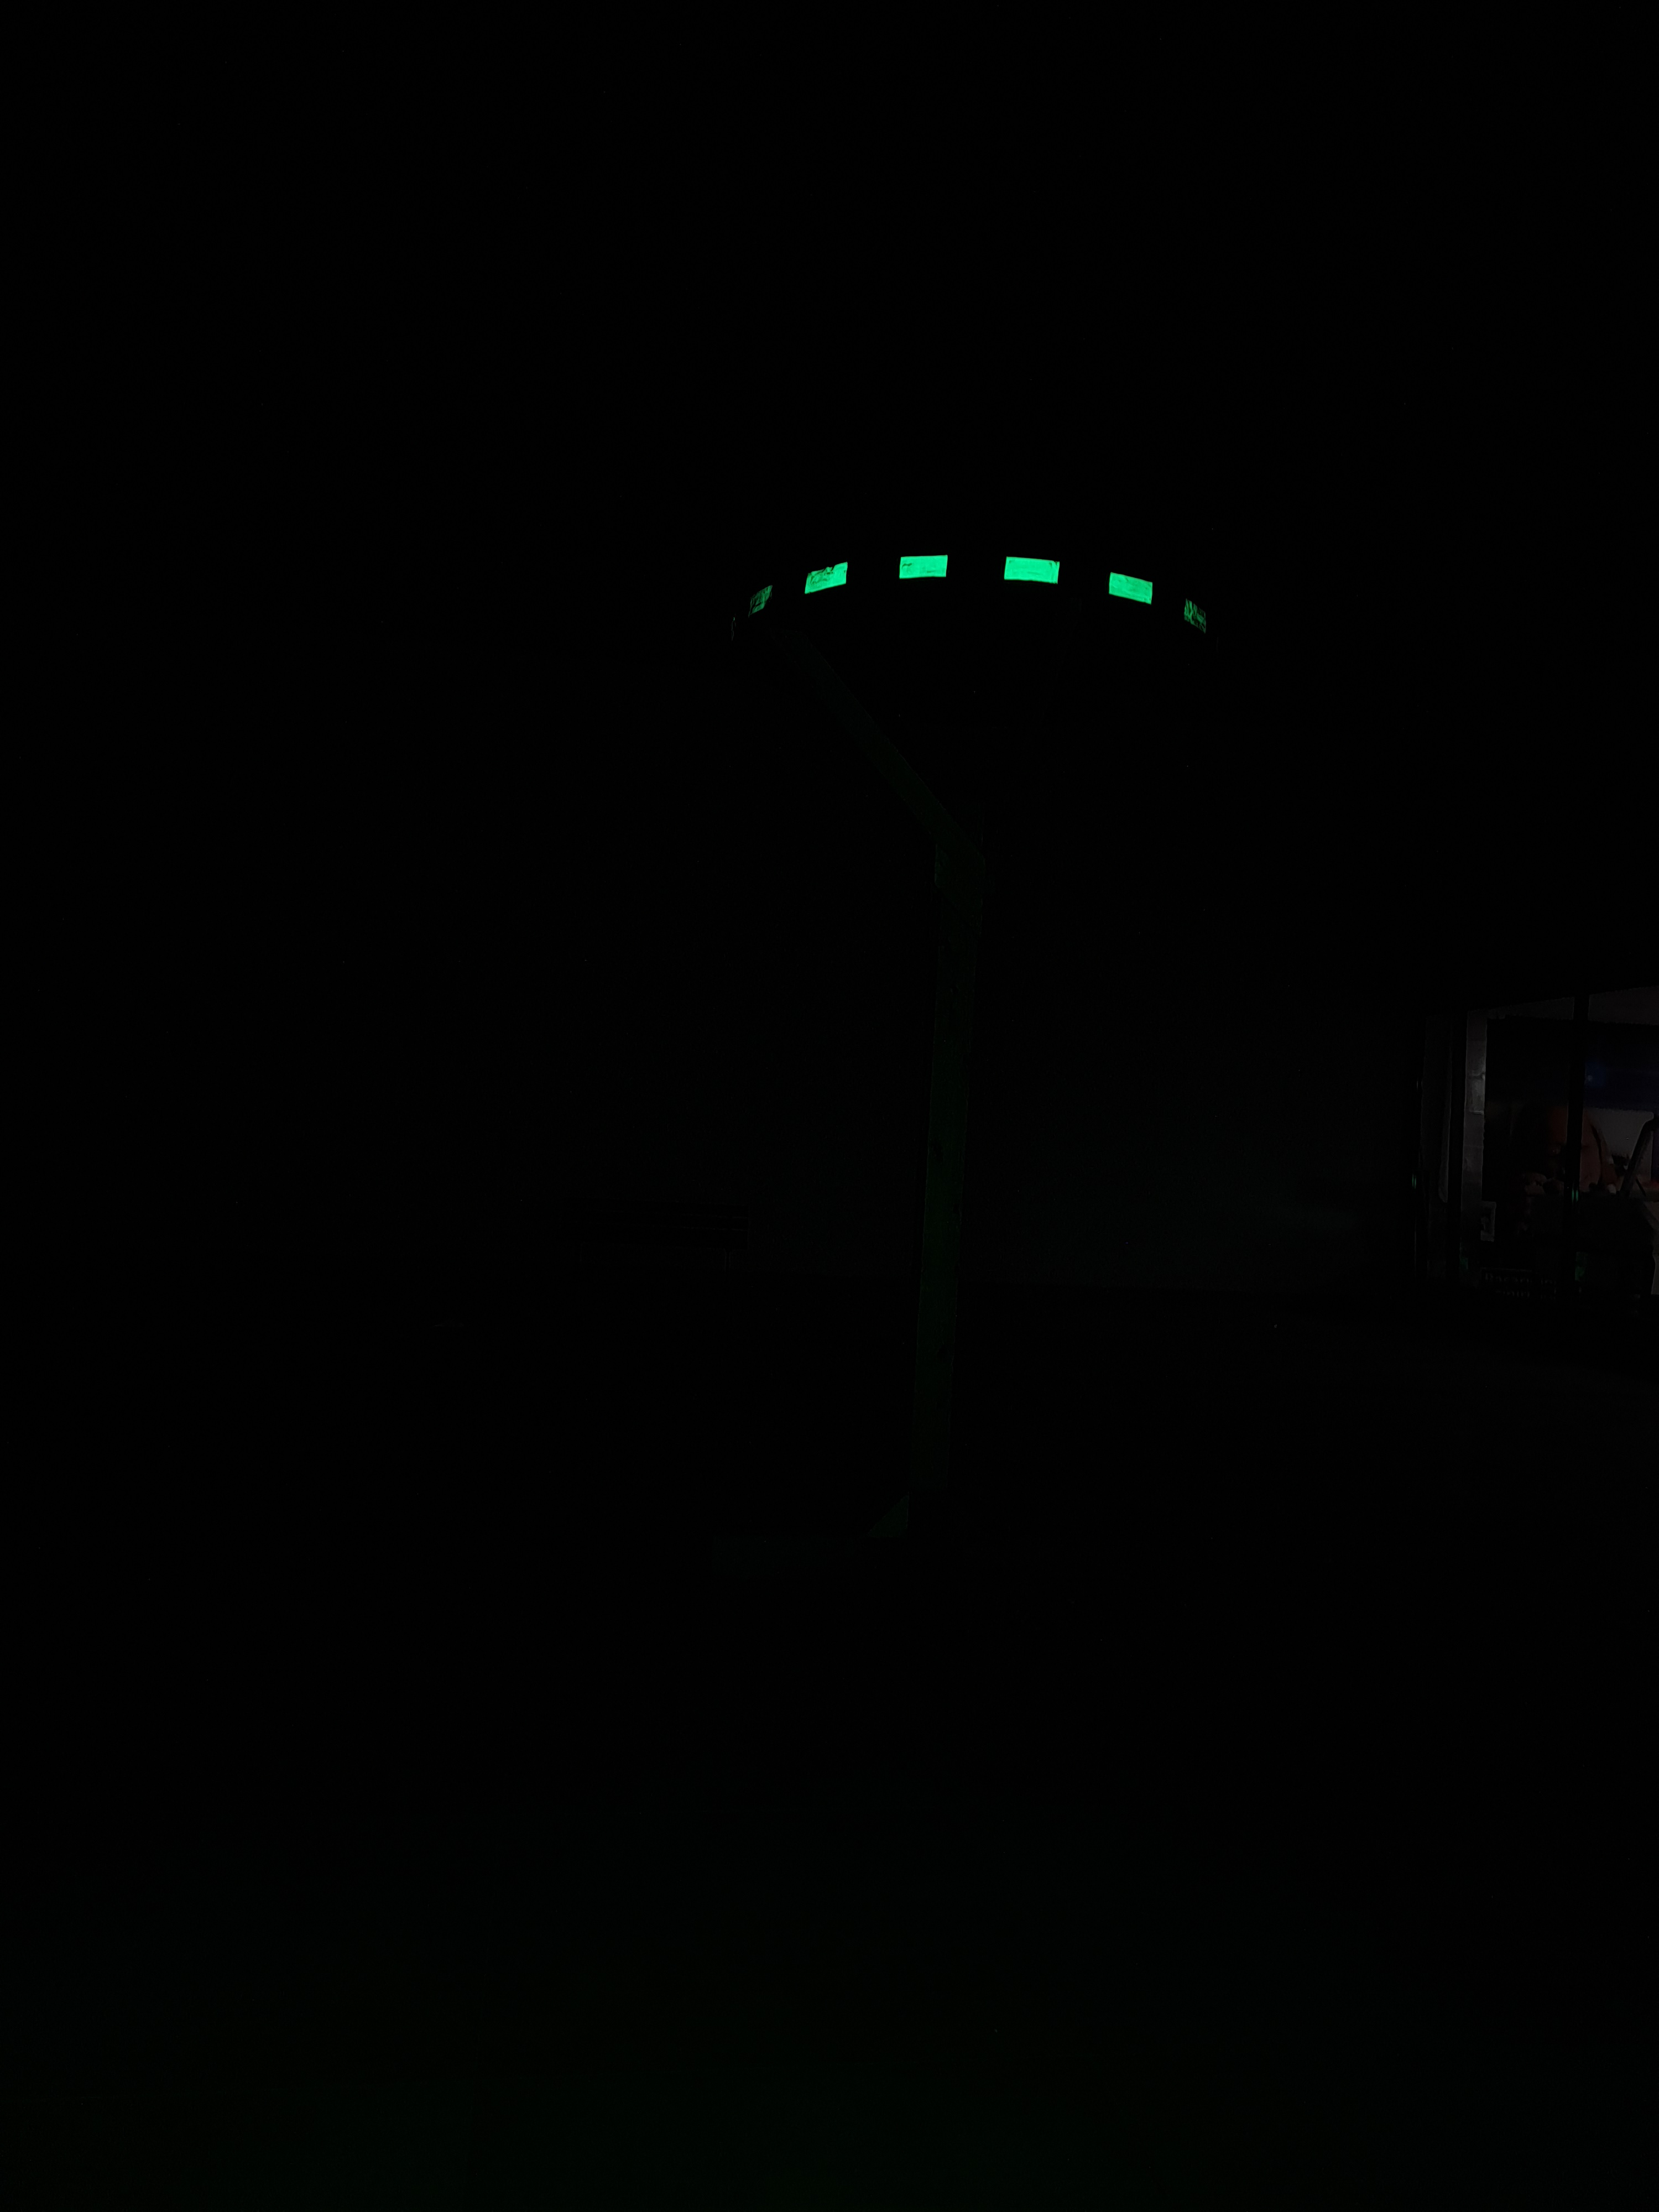hoop: (711, 523, 1230, 664)
